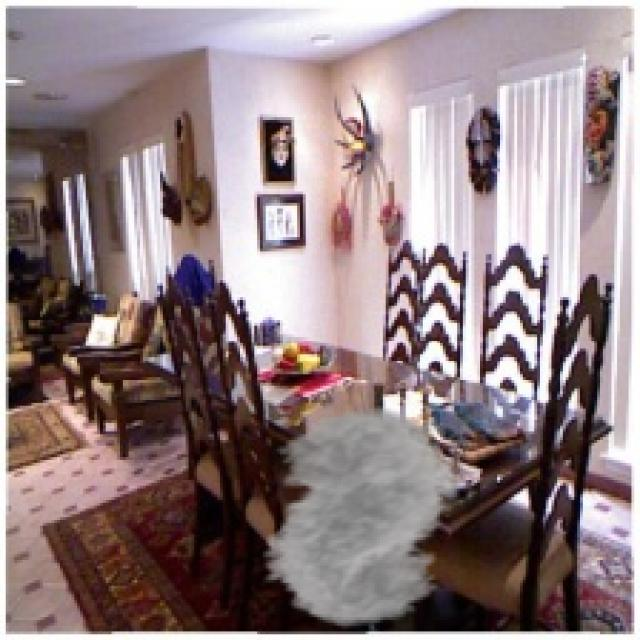smoke: (237, 406, 480, 628)
